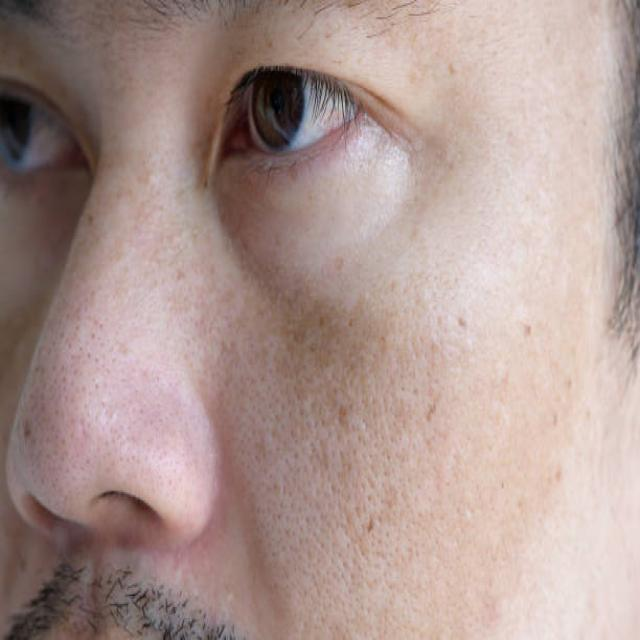Dry-Skin: (295, 258, 564, 502), (91, 200, 237, 530), (276, 476, 514, 640), (455, 52, 545, 182), (565, 496, 632, 627)
